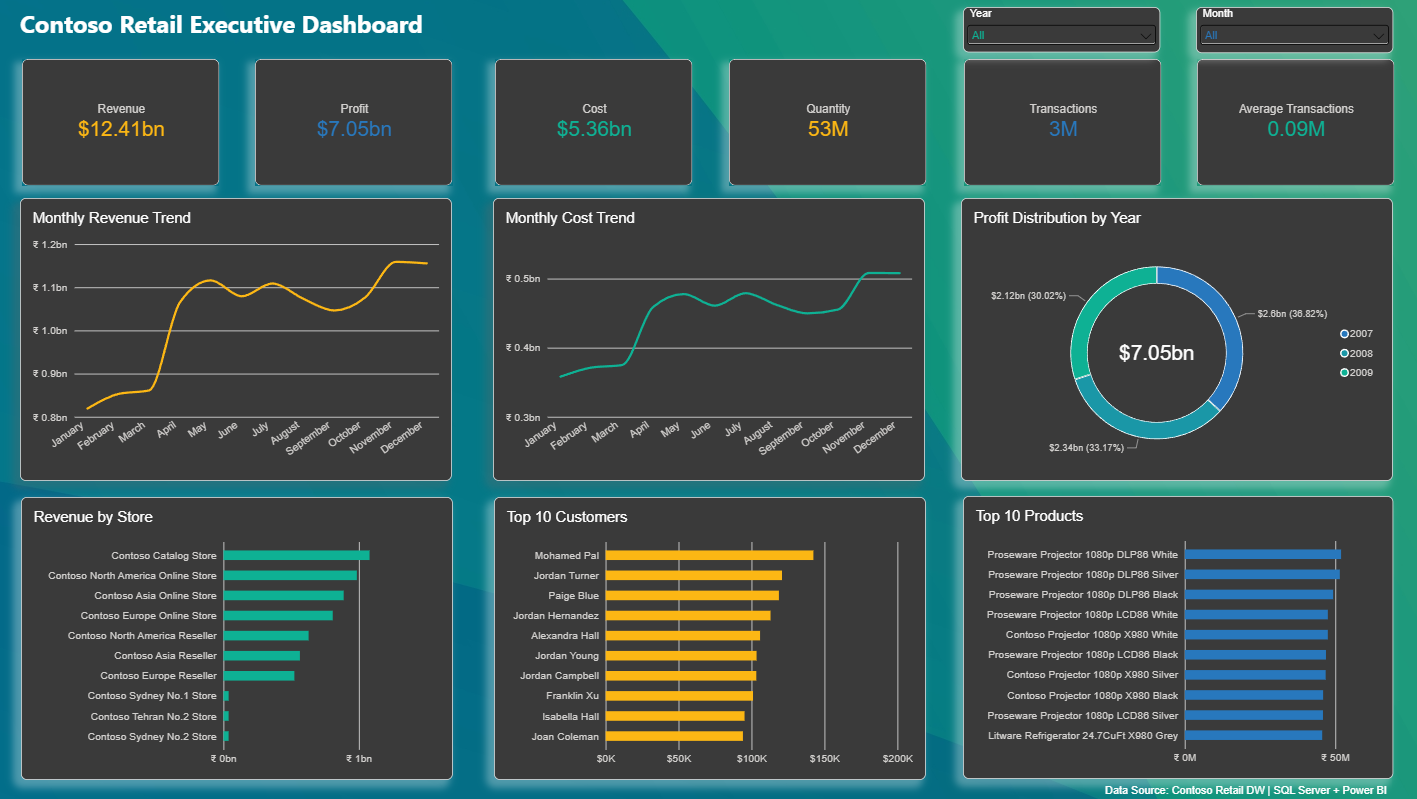

The dashboard page shown, as its layout file describes it:
{"tool":"powerbi","page":{"name":"Executive Dashboard","canvas":[1920,1080],"ordinal":0},"visuals":[{"type":"cardVisual","fields":{"Data":["Sum(vw_ExecutiveSummary.Cost)"]},"box":[671.1,83.5,265,170],"z":0},{"type":"cardVisual","fields":{"Data":["Sum(vw_ExecutiveSummary.QuantitySold)"]},"box":[986.2,83.5,265,170],"z":1000},{"type":"cardVisual","fields":{"Data":["Sum(vw_ExecutiveSummary.Transactions)"]},"box":[1301.3,83.1,265,170],"z":2000},{"type":"cardVisual","fields":{"Data":["Avg(vw_ExecutiveSummary.Transactions)"]},"box":[1614.5,82.7,265,170],"z":3000},{"type":"cardVisual","fields":{"Data":["Sum(vw_ExecutiveSummary.Revenue)"]},"box":[36.3,83.1,265,170],"z":4000},{"type":"cardVisual","fields":{"Data":["Sum(vw_ExecutiveSummary.Profit)"]},"box":[349.6,83.1,265.5,170.7],"z":5000},{"type":"lineChart","title":"Monthly Revenue Trend","fields":{"Category":["CalendarTable.Month Name"],"Y":["Sum(vw_MonthlySales.Revenue)"]},"box":[33.6,270.2,580,380],"z":6000},{"type":"barChart","title":"Top 10 Products","fields":{"Category":["vw_ProductPerformance.ProductName"],"Y":["Sum(vw_ProductPerformance.Revenue)"]},"box":[1300.3,670,577.6,380.1],"z":7000},{"type":"barChart","title":"Revenue by Store","fields":{"Category":["vw_StorePerformance.StoreName"],"Y":["Sum(vw_StorePerformance.Revenue)"]},"box":[34.9,671.3,580,380],"z":8000},{"type":"donutChart","title":"Profit Distribution by Year","fields":{"Category":["vw_ExecutiveSummary.YEAR"],"Y":["Sum(vw_ExecutiveSummary.Profit)"]},"box":[1298.1,270.2,580,380],"z":9000},{"type":"barChart","title":"Top 10 Customers","fields":{"Category":["vw_CustomerPerformance.Name"],"Y":["Sum(vw_CustomerPerformance.Revenue)"]},"box":[670.3,671.3,580,380],"z":10000},{"type":"slicer","fields":{"Values":["vw_ExecutiveSummary.YEAR"]},"box":[1299.9,13.1,265,61.3],"z":11000},{"type":"lineChart","title":"Monthly Cost Trend","fields":{"Category":["CalendarTable.Month Name"],"Y":["Sum(vw_MonthlySales.Cost)"]},"box":[668.3,270.6,580,380],"z":12000},{"type":"textbox","box":[33.6,13.1,551.5,48.1],"z":13000},{"type":"slicer","fields":{"Values":["vw_ExecutiveSummary.MONTH"]},"box":[1613.3,13.4,264.6,61.8],"z":14000},{"type":"textbox","box":[1491,1057.2,390.9,17.5],"z":14001}]}

Visuals, with their boxes in screenshot pixels (x1, y1, x2, y2), scaled from the page's 1920x1080 canvas onto the 1417x799 screenshot:
cardVisual - Sum(vw_ExecutiveSummary.Cost): locate(495, 62, 691, 188)
cardVisual - Sum(vw_ExecutiveSummary.QuantitySold): locate(728, 62, 923, 188)
cardVisual - Sum(vw_ExecutiveSummary.Transactions): locate(960, 61, 1156, 187)
cardVisual - Avg(vw_ExecutiveSummary.Transactions): locate(1192, 61, 1387, 187)
cardVisual - Sum(vw_ExecutiveSummary.Revenue): locate(27, 61, 222, 187)
cardVisual - Sum(vw_ExecutiveSummary.Profit): locate(258, 61, 454, 188)
"Monthly Revenue Trend" lineChart: locate(25, 200, 453, 481)
"Top 10 Products" barChart: locate(960, 496, 1386, 777)
"Revenue by Store" barChart: locate(26, 497, 454, 778)
"Profit Distribution by Year" donutChart: locate(958, 200, 1386, 481)
"Top 10 Customers" barChart: locate(495, 497, 923, 778)
slicer - vw_ExecutiveSummary.YEAR: locate(959, 10, 1155, 55)
"Monthly Cost Trend" lineChart: locate(493, 200, 921, 481)
textbox: locate(25, 10, 432, 45)
slicer - vw_ExecutiveSummary.MONTH: locate(1191, 10, 1386, 56)
textbox: locate(1100, 782, 1389, 795)
